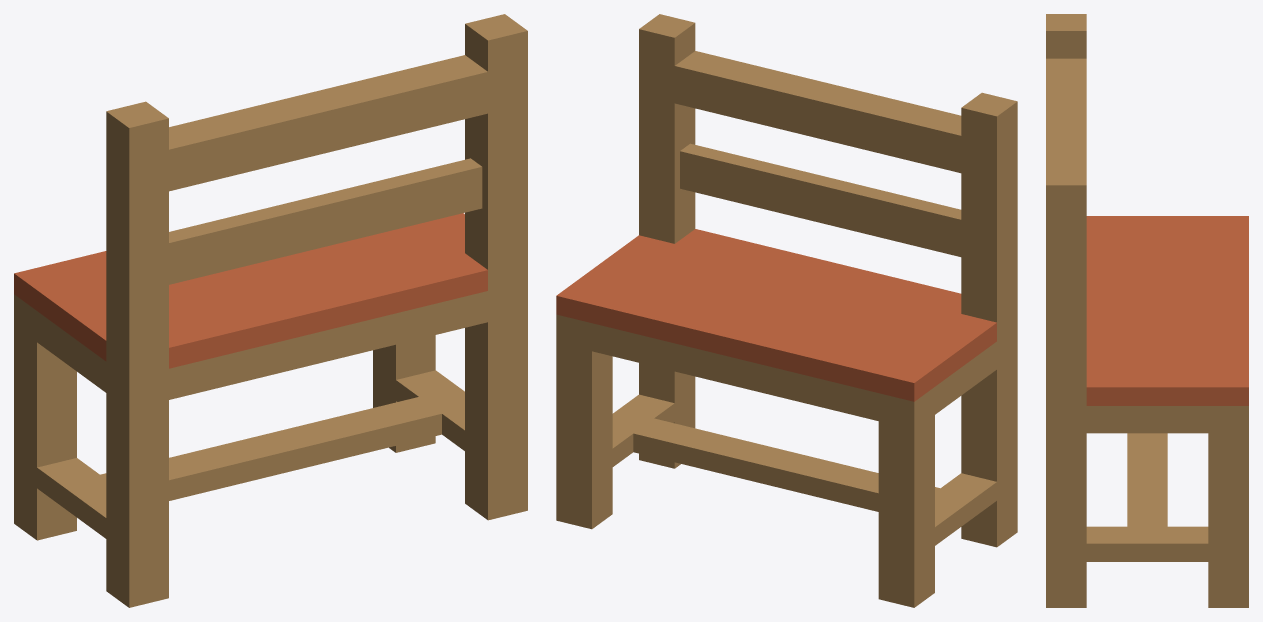
Rendered from benchCushion.glb.
The picture shows the model from 3 angles, left to right: view 1: azimuth 30°, elevation 25°; view 2: azimuth 150°, elevation 25°; view 3: azimuth 270°, elevation 25°; orthographic projection. The views are drawn at different scales.
Parts seen in each view (by area): view 1: benchCushion; view 2: benchCushion; view 3: benchCushion.
Boxes of the visible parts, bbox=[...] form: benchCushion: bbox=[14, 14, 527, 607]; benchCushion: bbox=[556, 14, 1017, 607]; benchCushion: bbox=[1046, 14, 1248, 607].
Bounding box in the file's own units: 0.8 × 0.92 × 0.4.
